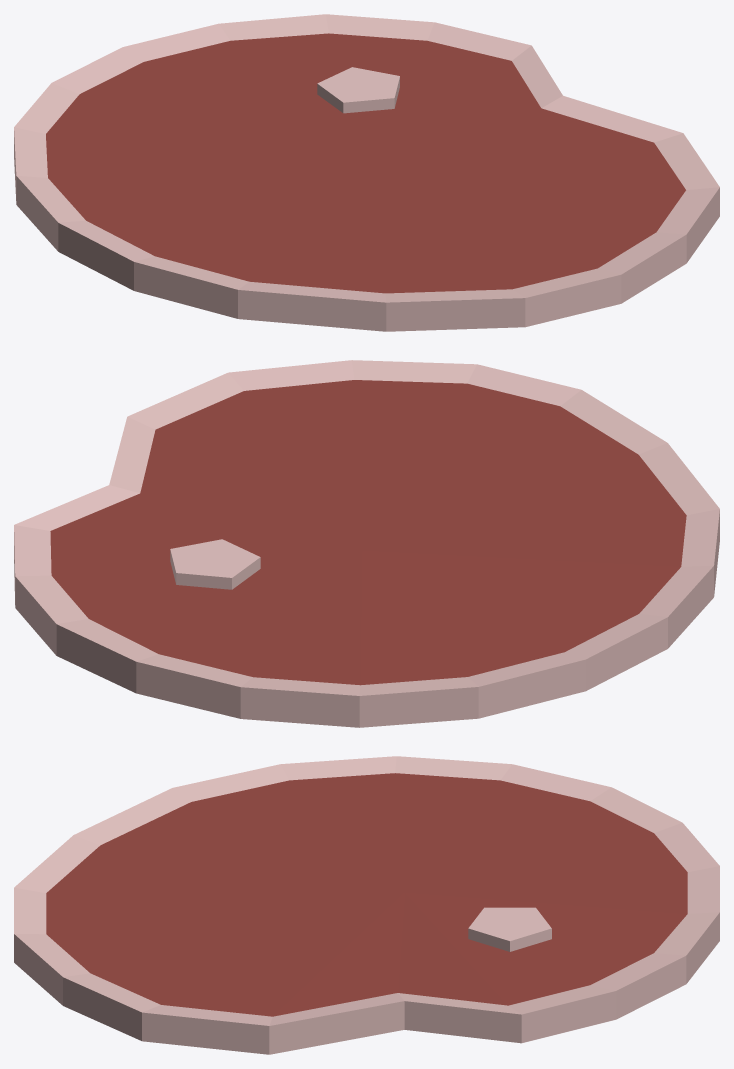
File: Low Poly Steak.fbx
The picture shows the model from 3 angles, top to bottom: view 1: azimuth 30°, elevation 25°; view 2: azimuth 150°, elevation 25°; view 3: azimuth 270°, elevation 25°; orthographic projection. The views are drawn at different scales.
Parts seen in each view (by area): view 1: Steak_Main, pCylinder1; view 2: Steak_Main, pCylinder1; view 3: Steak_Main, pCylinder1.
Boxes of the visible parts, box(x1,y1,x2,y2) form: Steak_Main: box(14, 14, 719, 331); pCylinder1: box(317, 67, 399, 113); Steak_Main: box(14, 360, 719, 727); pCylinder1: box(170, 539, 260, 589); Steak_Main: box(14, 756, 719, 1054); pCylinder1: box(468, 907, 551, 951).
Bounding box in the file's own units: 2.03 × 0.1258 × 2.24.
